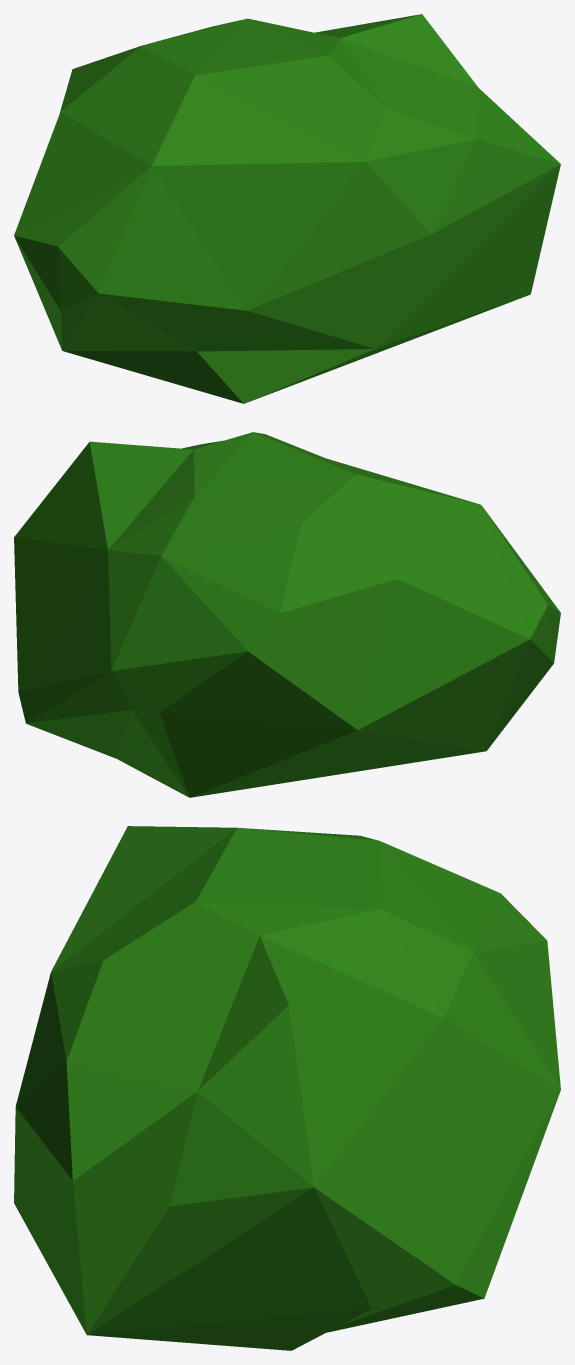
The model's file is Bush.fbx.
3 renders of one model, top to bottom at view 1: azimuth 30°, elevation 25°; view 2: azimuth 150°, elevation 25°; view 3: azimuth 270°, elevation 25°, orthographic. The views are drawn at different scales.
Parts seen in each view (by area): view 1: Bush; view 2: Bush; view 3: Bush.
Part boxes in pixels (box(x1,y1,x2,y2)): Bush: box(14, 14, 560, 403); Bush: box(14, 432, 560, 797); Bush: box(14, 826, 560, 1350).
Bounding box in the file's own units: 84.42 × 45.08 × 61.38.
